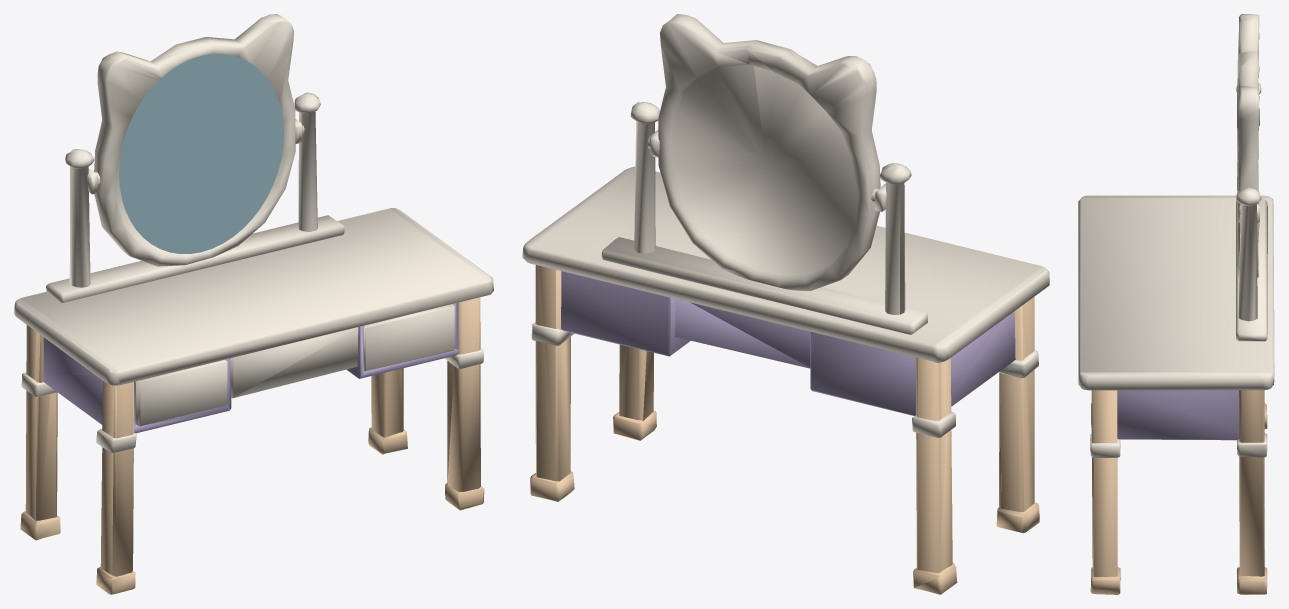
Rendered from bedroom_vanity.glb.
3 views of the same model, side by side, from view 1: azimuth 30°, elevation 25°; view 2: azimuth 150°, elevation 25°; view 3: azimuth 270°, elevation 25° (orthographic). The views are drawn at different scales.
Bounding box in the file's own units: 2.55 × 2.9 × 1.16.
